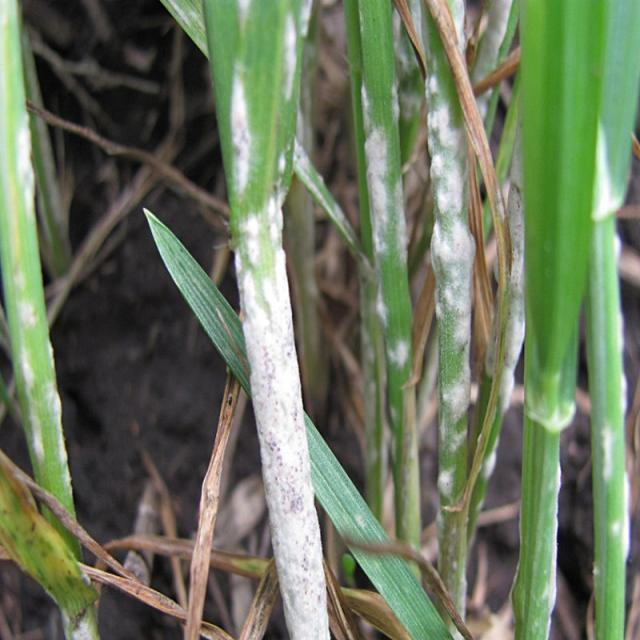wheat-powdery-mildew: (234, 191, 332, 639), (429, 66, 477, 453), (229, 64, 250, 190), (17, 113, 35, 213), (283, 8, 298, 103), (440, 464, 453, 504)
